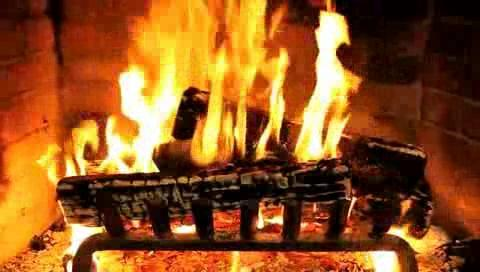fire: (115, 7, 350, 172)
